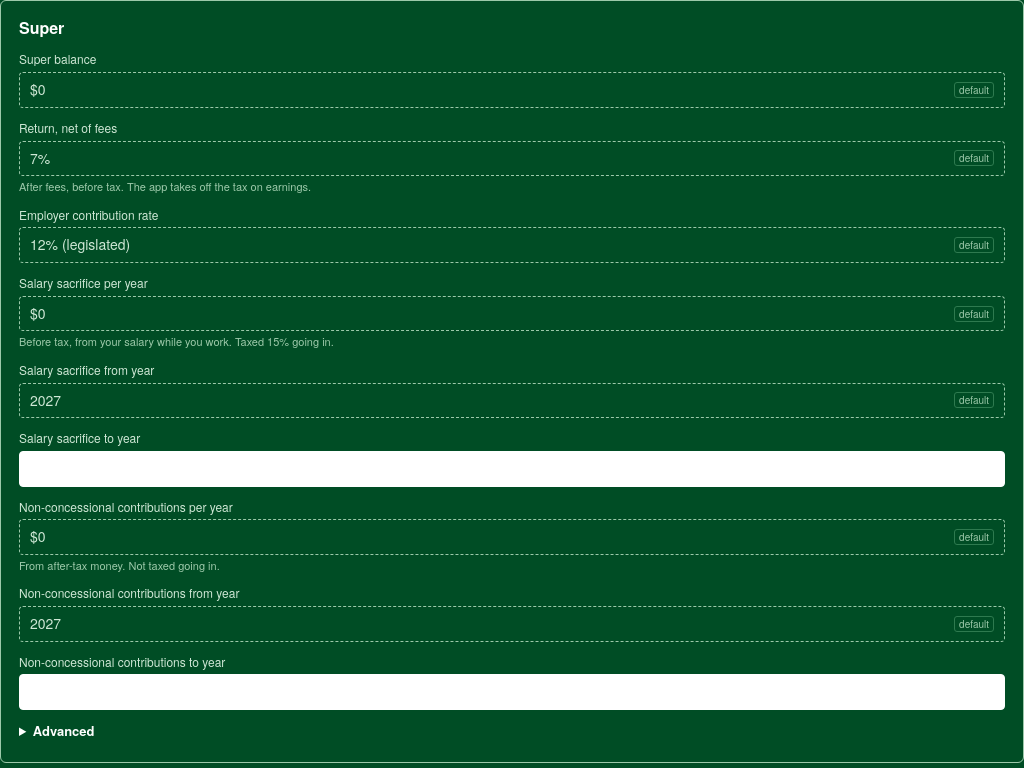
SuperSection fields › rejects a negative balance
This screenshot has width=1024, height=768.
Step 1. Type "-5" into the field labelled "Super balance" → coordinates (489, 90), box [30, 80, 948, 100]
Then press Enter
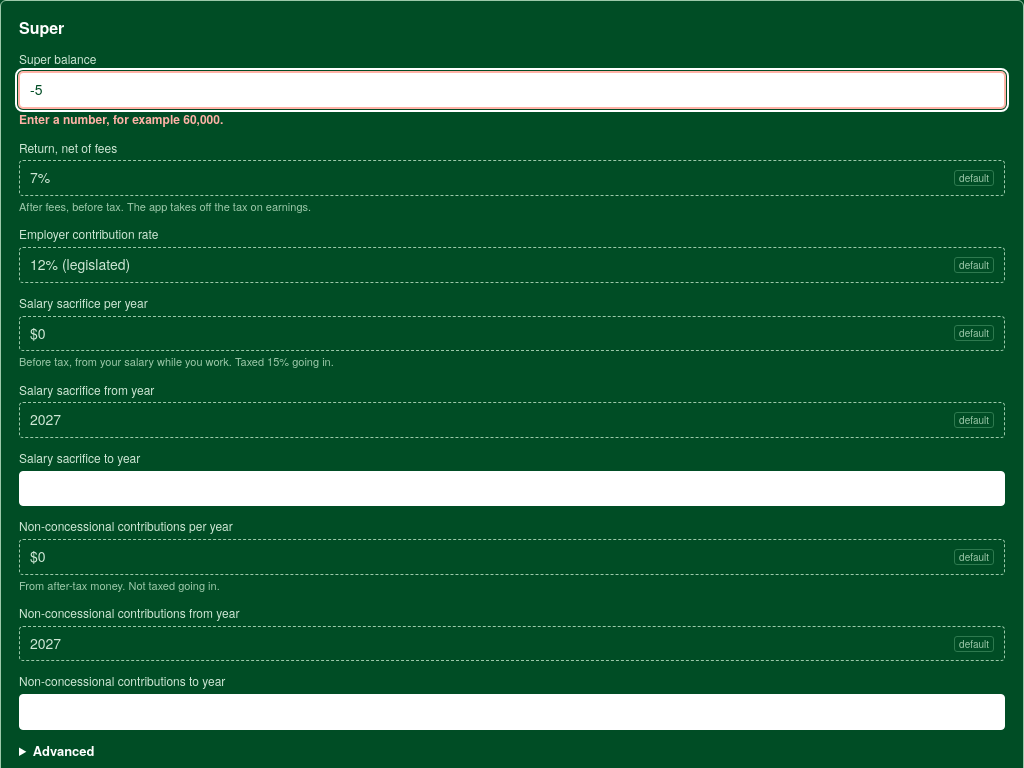
Check: the text "Enter a number, for example 60,000." is shown, box [19, 110, 223, 128]
